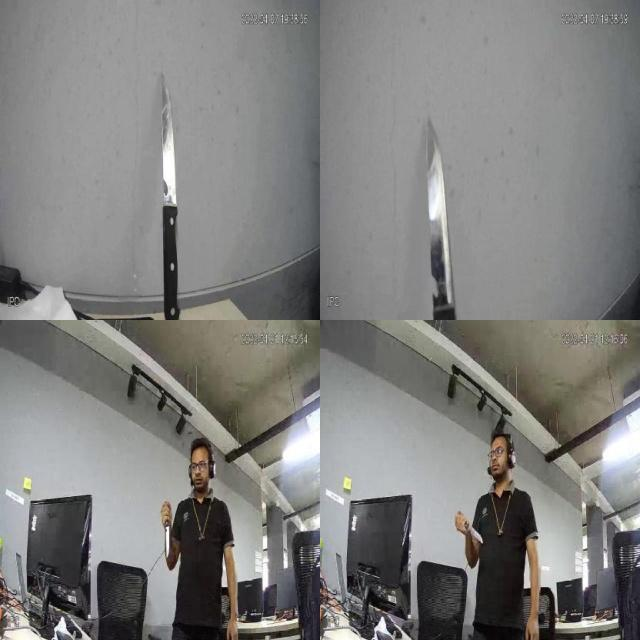-: (155, 60, 201, 319), (413, 114, 465, 319), (465, 516, 486, 549), (161, 517, 172, 559)
